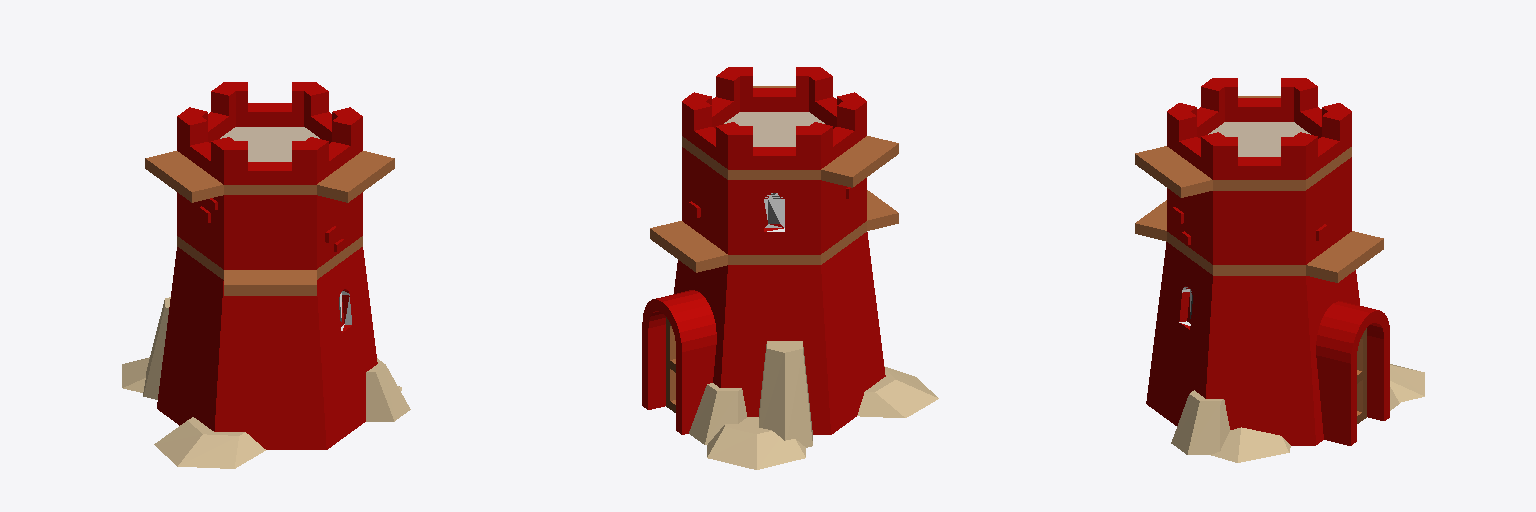
Rendered from tower1.obj.
The picture shows the model from 3 angles: view 1: azimuth 30°, elevation 25°; view 2: azimuth 150°, elevation 25°; view 3: azimuth 270°, elevation 25°; orthographic projection.
Parts seen in each view (by area): view 1: tower; view 2: tower; view 3: tower.
Boxes of the visible parts, <box> form: tower: <box>122,82,410,468</box>; tower: <box>642,67,938,469</box>; tower: <box>1135,78,1424,462</box>.
Size of the model in its own units: 33.22 by 37.15 by 33.4.